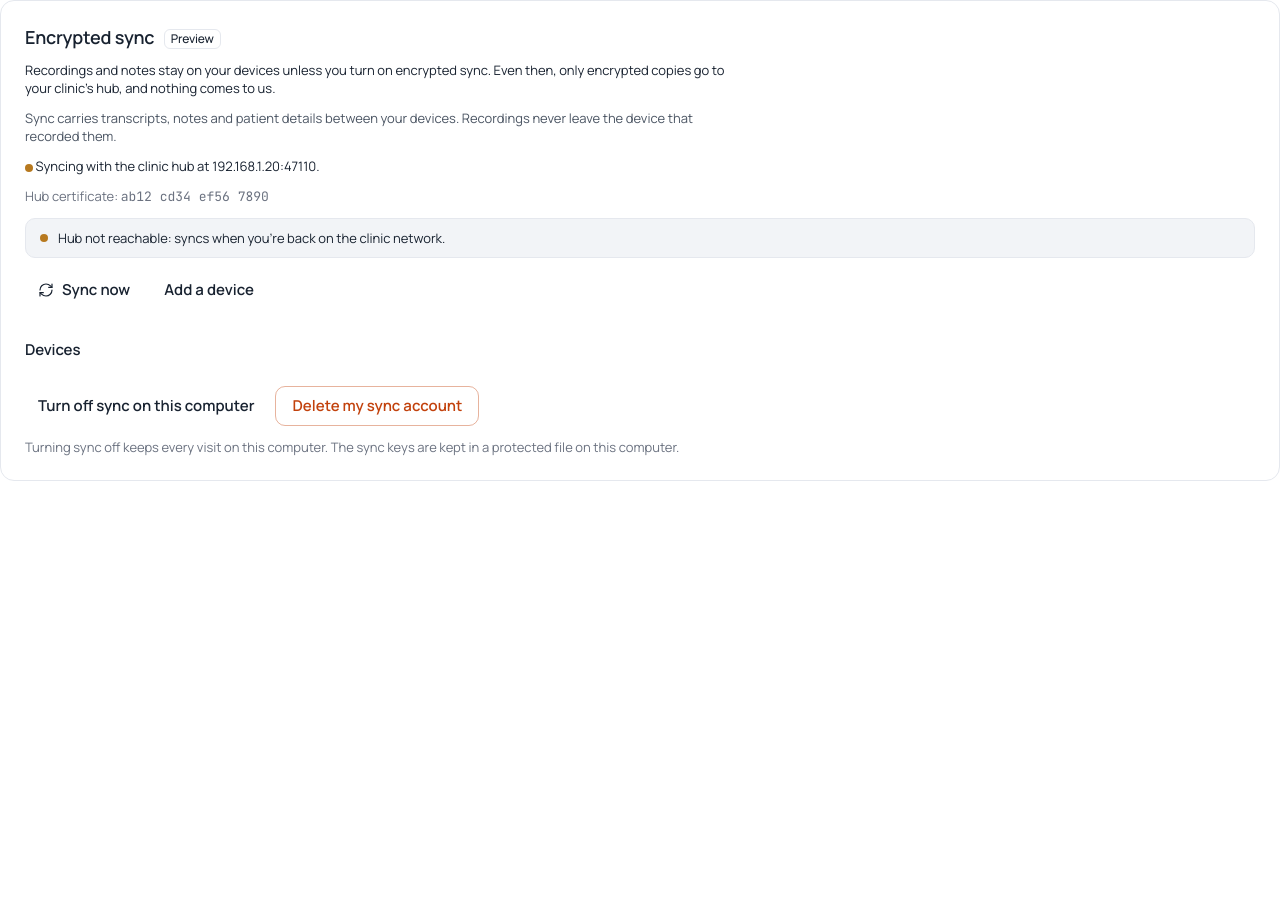
Test: Settings, Encrypted sync › shows the hub it syncs with and asks for the word delete before deleting the account
The image size is (1280, 900).
Check: the text "Syncing with the clinic hub at 192.168.1.20:47110." is shown, box [25,157,320,175]
Check: the text "ab12 cd34 ef56 7890" is shown, box [121,188,269,205]
Click the button "Delete my sync account" at point(378, 406), box [276,386,480,426]
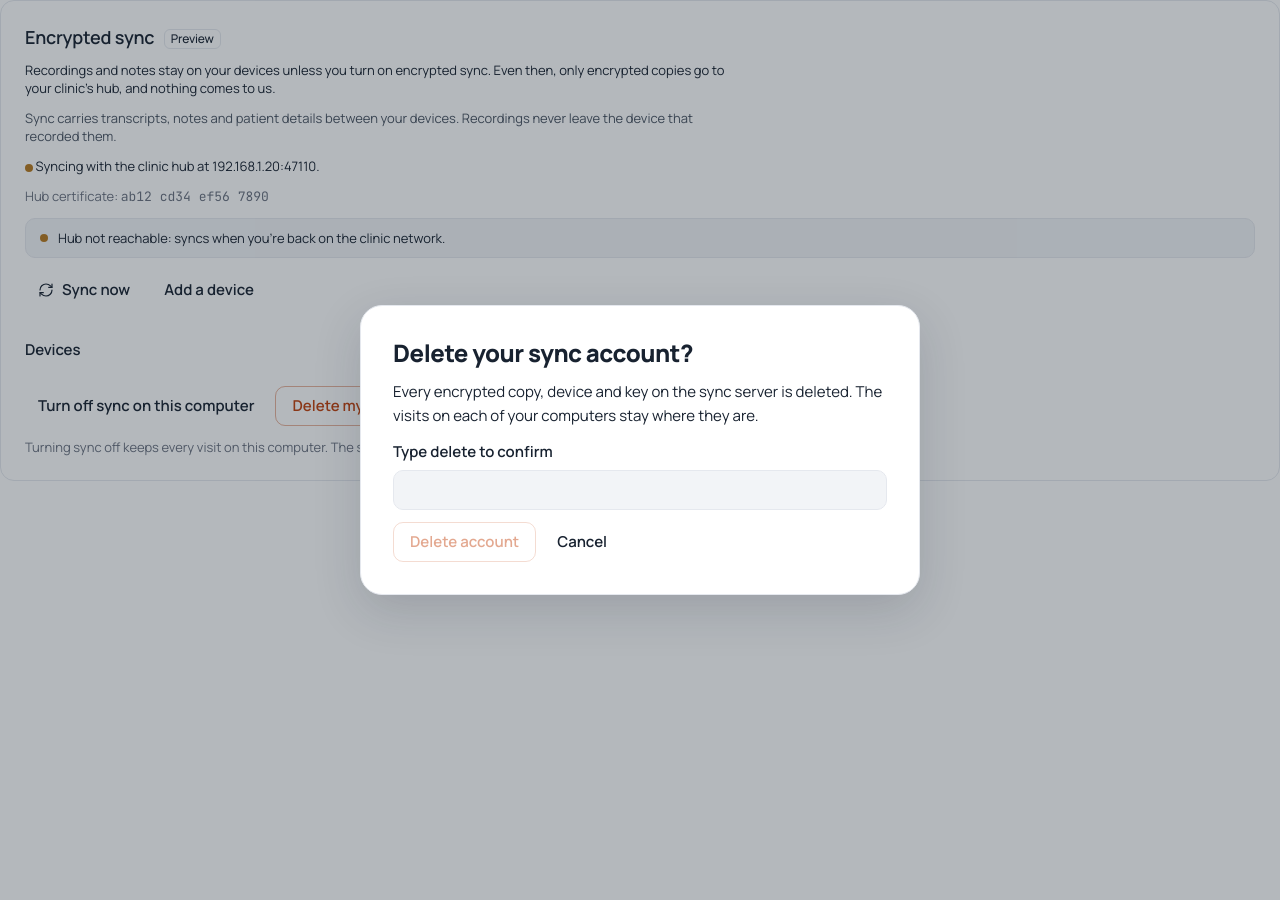
Check: the text "Type delete to confirm" is shown, box [393,441,553,462]
